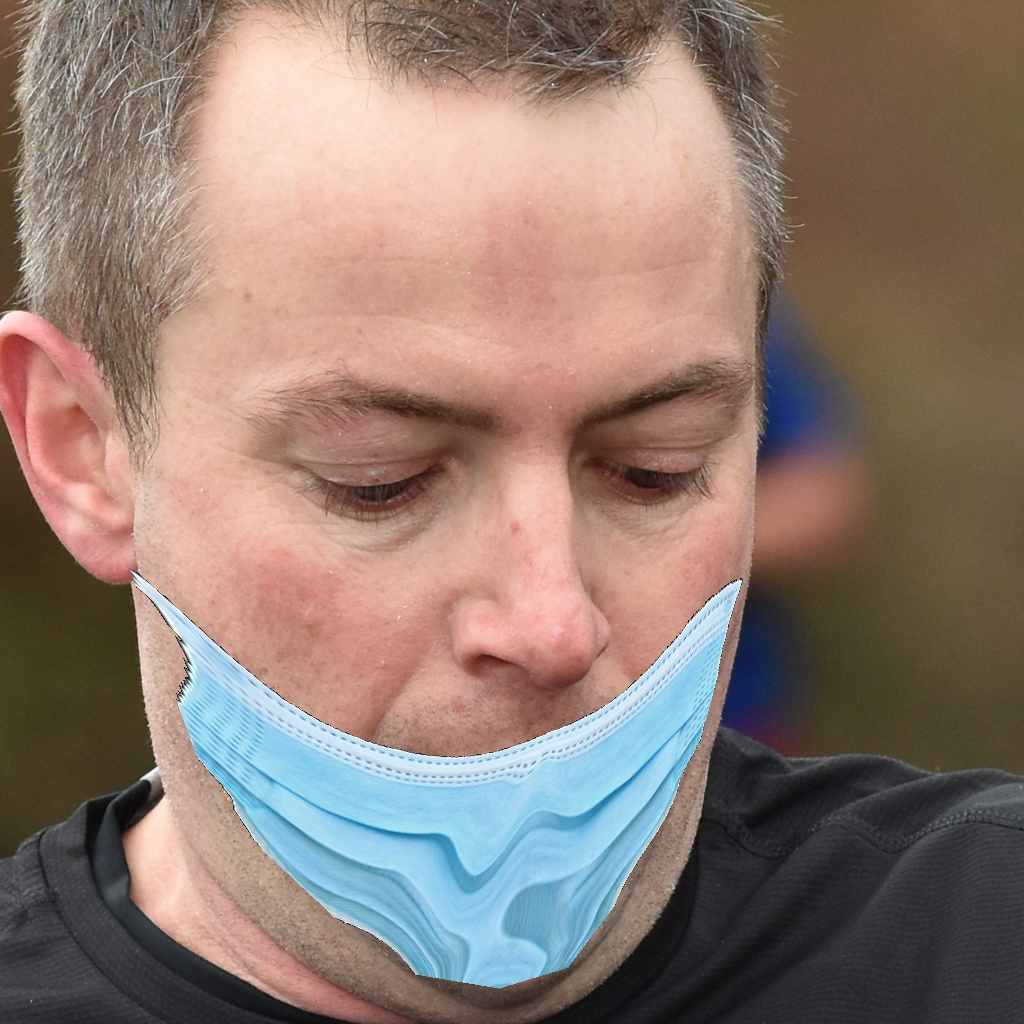mascarilla_mal_puesta: (149, 318, 752, 975)
